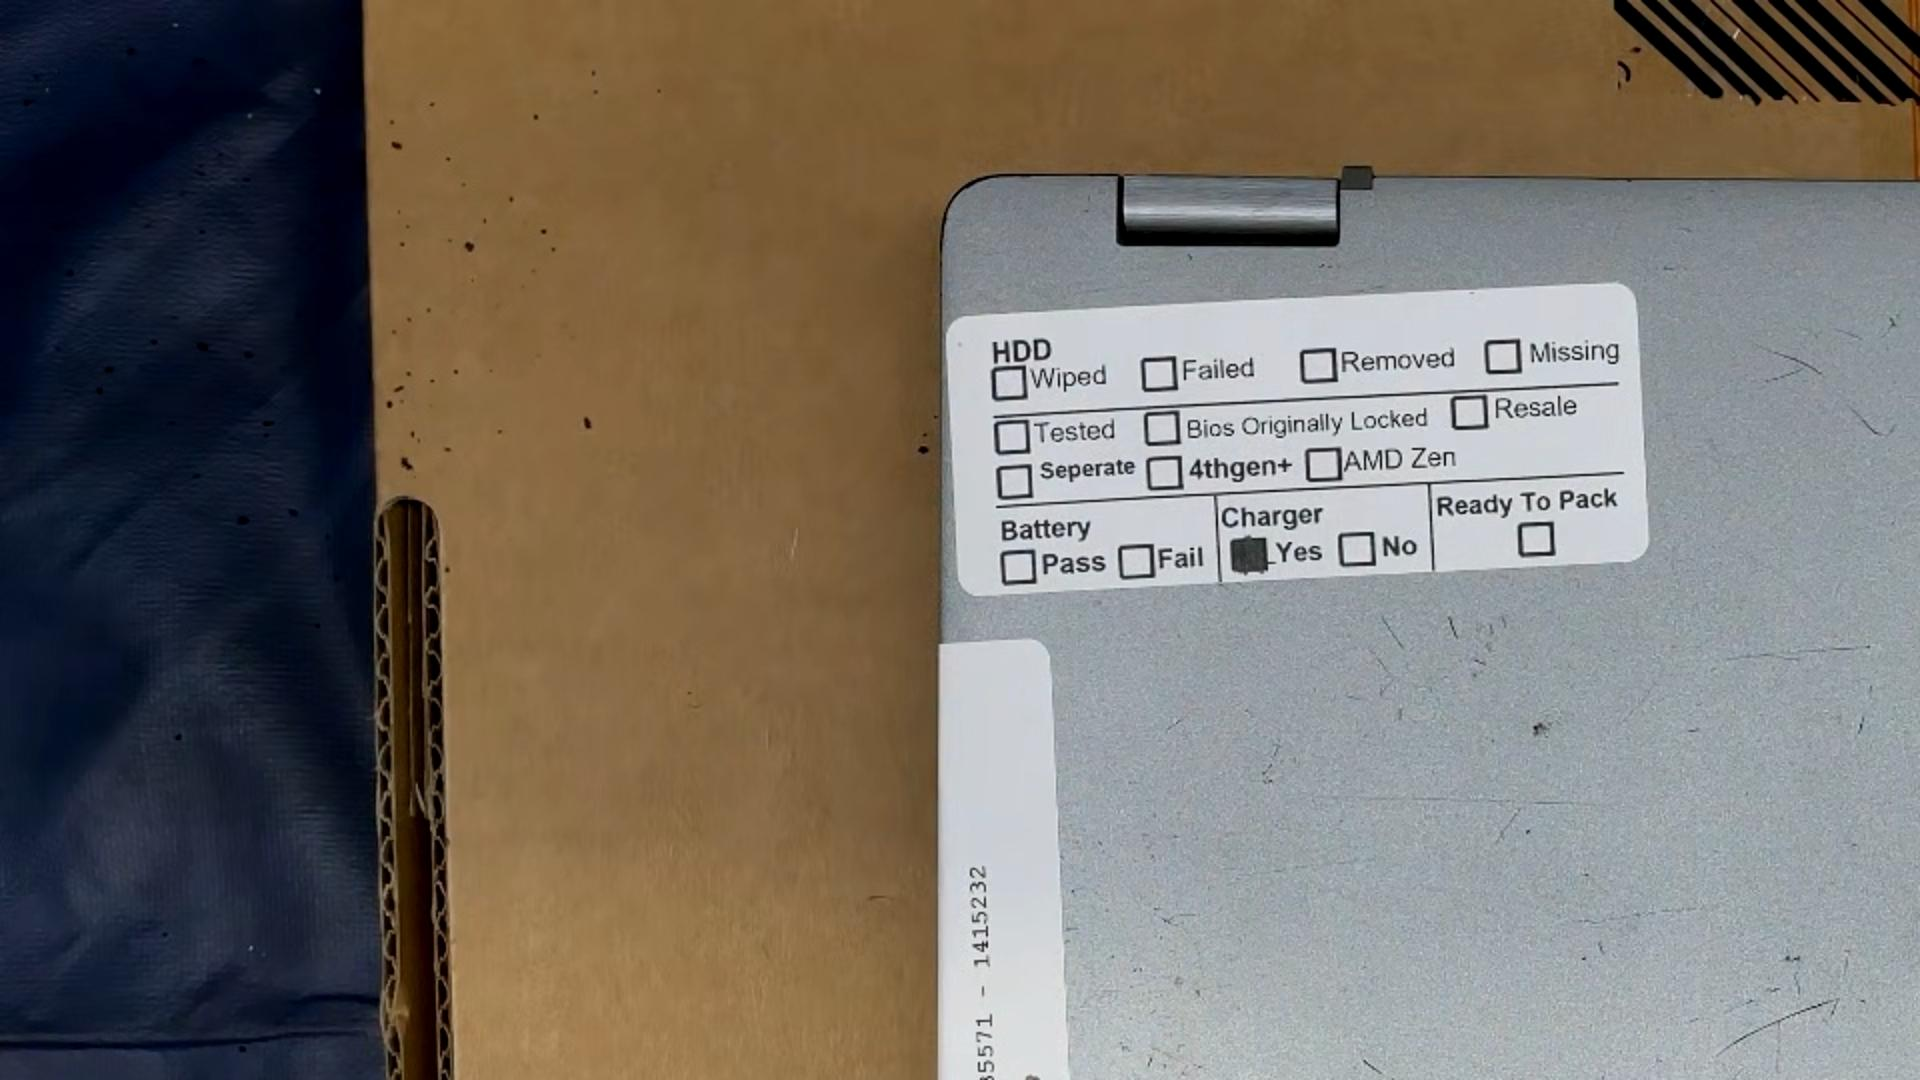chip: (1531, 721, 1552, 738)
scratches: (1714, 996, 1842, 1059), (1317, 793, 1597, 807), (1722, 644, 1876, 665), (1573, 905, 1702, 926), (1753, 343, 1826, 378), (1845, 402, 1900, 439), (1853, 682, 1874, 741), (1494, 807, 1523, 845), (1367, 650, 1399, 680), (1381, 615, 1407, 650), (1259, 736, 1282, 777), (1763, 367, 1808, 385), (1880, 309, 1903, 343), (1722, 997, 1756, 1017), (1828, 326, 1866, 343), (1445, 613, 1462, 642), (1160, 913, 1197, 926), (1163, 715, 1185, 735), (1362, 1058, 1386, 1076), (1841, 945, 1853, 977), (1775, 1022, 1782, 1072), (1379, 679, 1396, 698), (1776, 953, 1804, 964), (1792, 971, 1801, 997), (1185, 252, 1195, 264), (1767, 986, 1783, 993), (1146, 1056, 1154, 1068), (1687, 728, 1698, 733), (1524, 828, 1532, 836)
